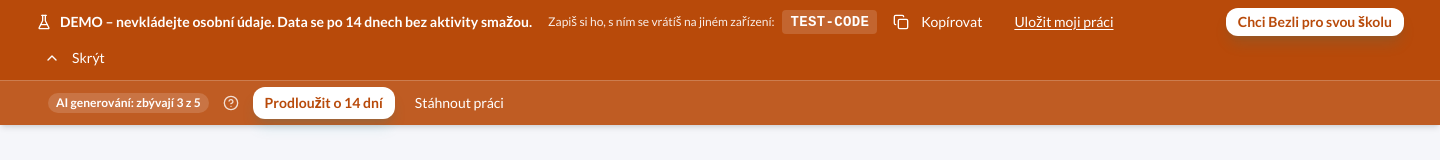
Test case: demo pruh – sbalení a limity › sbalí se, zapamatuje stav a znovu rozbalí s ARIA
Click the button with aria-label "Skrýt pruh dema". click: x=74, y=58
box: [36,44,113,72]
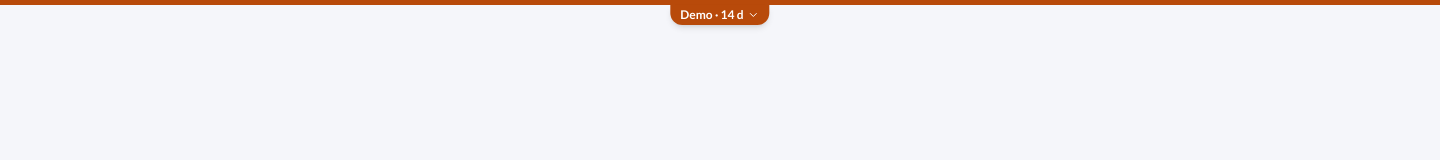
Click the button with aria-label "Zobrazit pruh dema". click: x=720, y=15
box: [670,5,770,25]
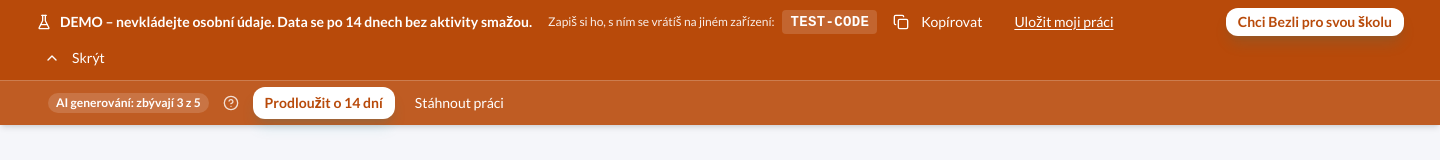
Result: the text "DEMO" is shown at [60,13,532,30]
